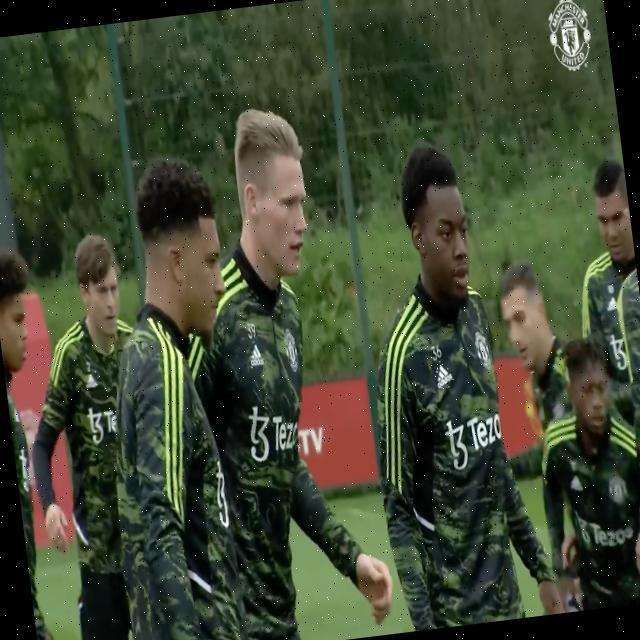Adidas: (433, 358, 454, 392), (247, 341, 266, 369), (84, 371, 98, 391)
